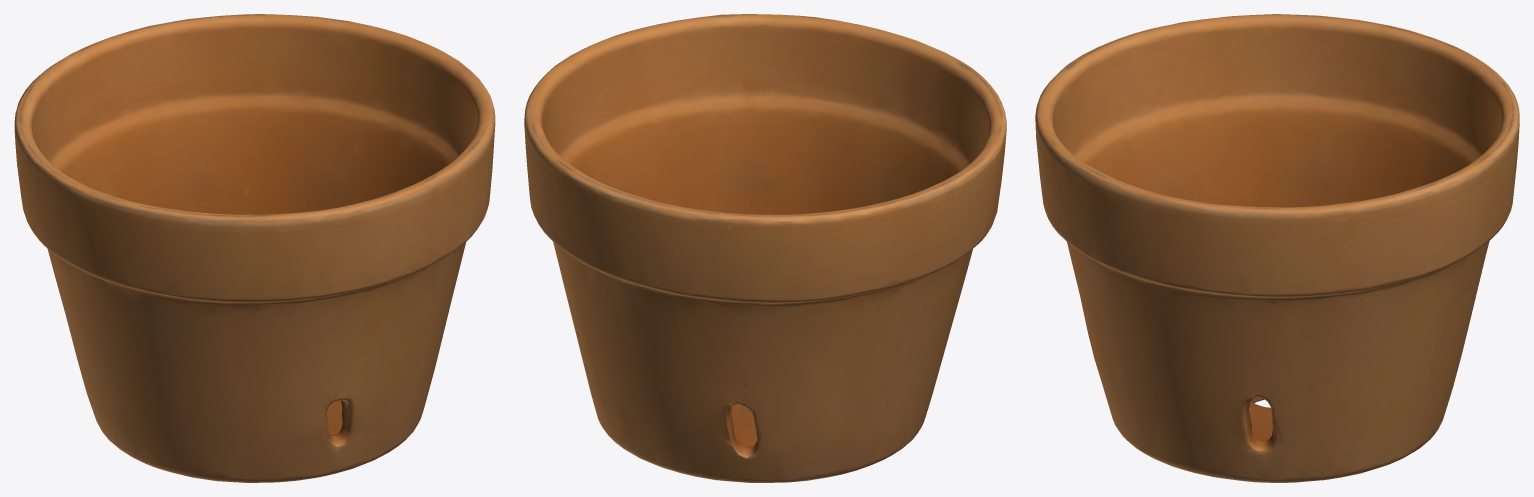
Rendered from Cole_Hardware_Orchid_Pot_85.glb.
The picture shows the model from 3 angles, left to right: view 1: azimuth 30°, elevation 25°; view 2: azimuth 150°, elevation 25°; view 3: azimuth 270°, elevation 25°; orthographic projection.
Visible parts, largest first — view 1: Cole_Hardware_Orchid_Pot_85; view 2: Cole_Hardware_Orchid_Pot_85; view 3: Cole_Hardware_Orchid_Pot_85.
Part boxes in pixels (box(x1,y1,x2,y2)): Cole_Hardware_Orchid_Pot_85: box(14, 14, 495, 482); Cole_Hardware_Orchid_Pot_85: box(524, 14, 1006, 482); Cole_Hardware_Orchid_Pot_85: box(1035, 14, 1519, 482).
Size of the model in its own units: 0.2114 by 0.148 by 0.2102.
Materials: 1 (1 with a texture image).
